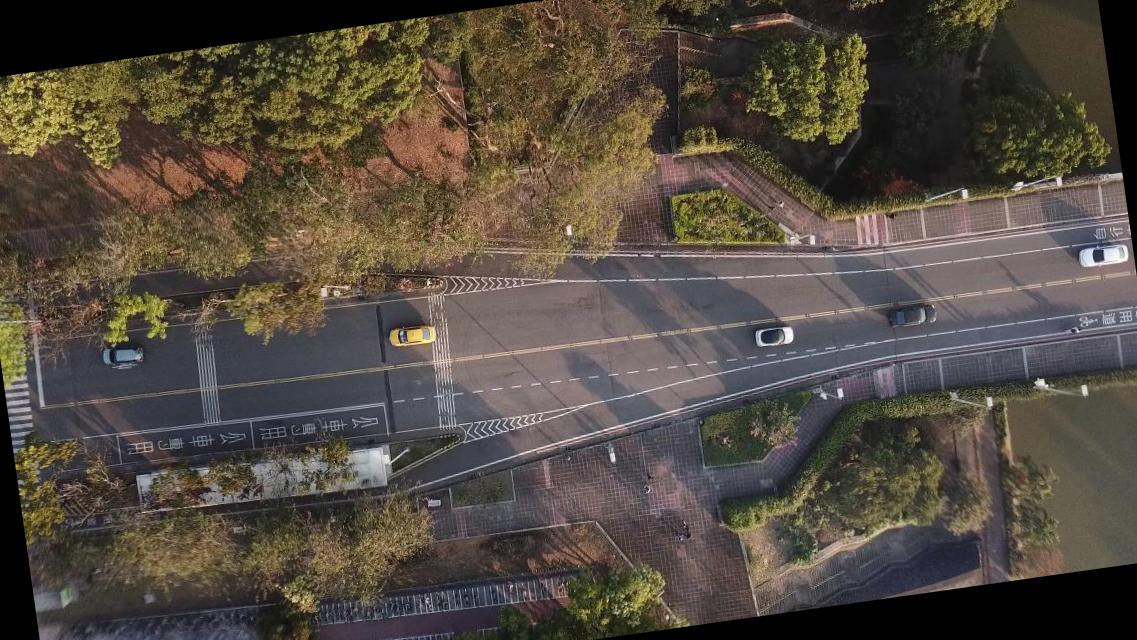vehicle: (1076, 240, 1135, 270), (386, 322, 438, 349), (888, 303, 938, 329), (103, 344, 145, 369), (754, 324, 794, 349)
